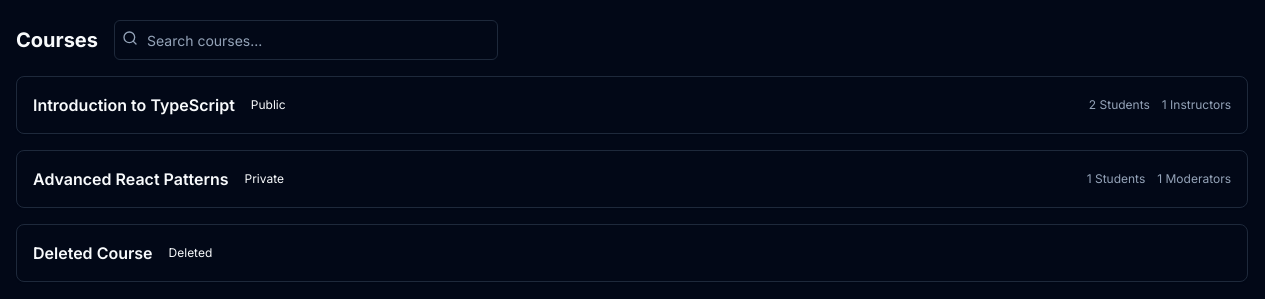
Test case: CoursesList › Search Functionality › filters courses based on search query
Type "TypeScript" into the field with placeholder "Search courses..." at (306, 40), box [114,20,498,60]
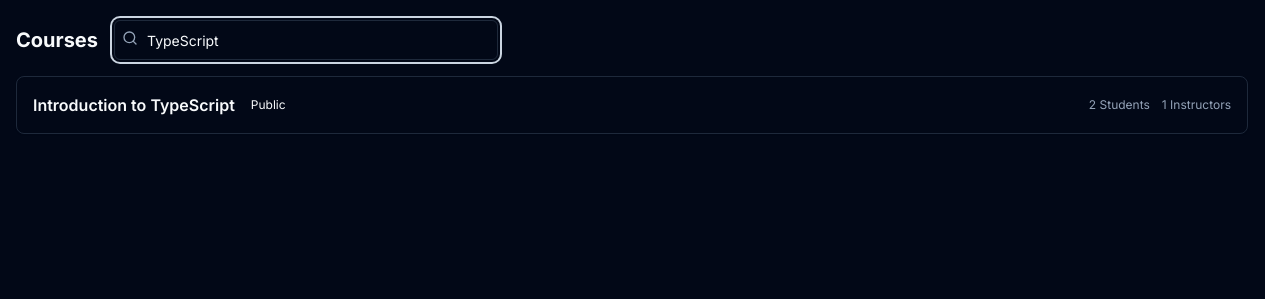
Expected: the heading "Introduction to TypeScript" is shown, [33,93,235,117]
Expected: the link "Advanced React Patterns" is gone
